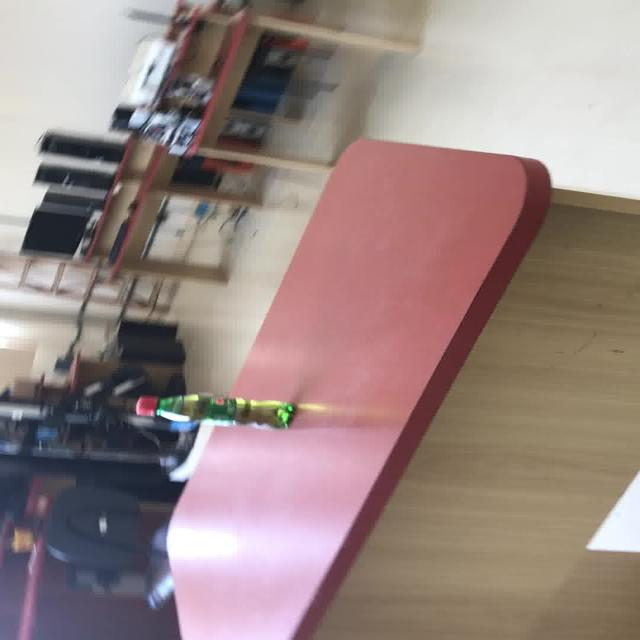guarana: (133, 392, 295, 430)
